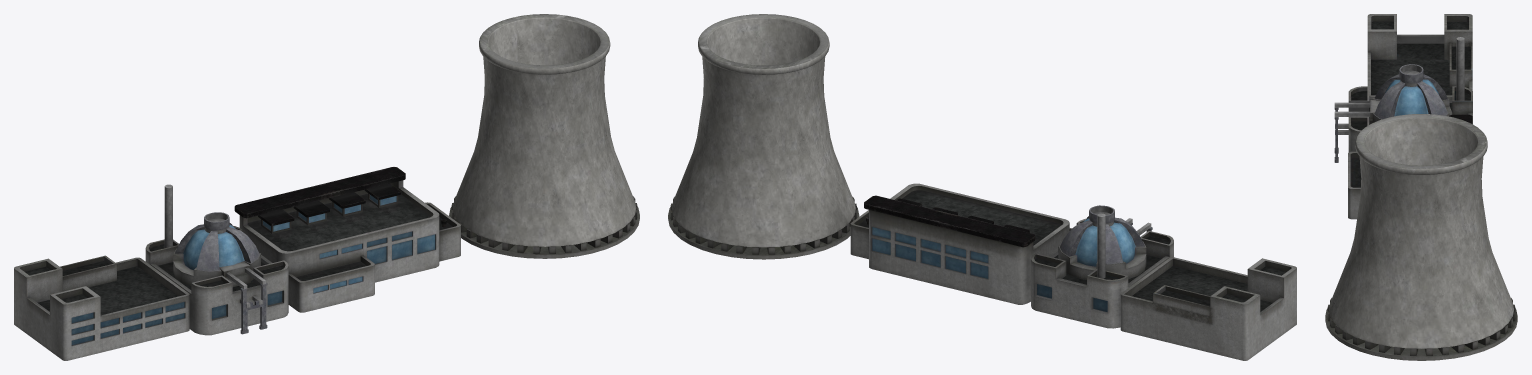
Rendered from obj_factory.glb.
The picture shows the model from 3 angles, left to right: view 1: azimuth 30°, elevation 25°; view 2: azimuth 150°, elevation 25°; view 3: azimuth 270°, elevation 25°; orthographic projection.
Visible parts, largest first — view 1: body|Truba_mtl, body|Zdanie_Cheh_mtl, body|Zdanie_office_mtl, body|Zdanie_Centr_mtl; view 2: body|Truba_mtl, body|Zdanie_Cheh_mtl, body|Zdanie_office_mtl, body|Zdanie_Centr_mtl; view 3: body|Truba_mtl, body|Zdanie_office_mtl, body|Zdanie_Centr_mtl, body|Zdanie_Cheh_mtl.
Boxes of the visible parts, x1,y1,x2,y2 form: body|Truba_mtl: [449, 14, 639, 258]; body|Zdanie_Cheh_mtl: [234, 167, 460, 312]; body|Zdanie_office_mtl: [14, 255, 189, 360]; body|Zdanie_Centr_mtl: [145, 184, 288, 335]; body|Truba_mtl: [668, 14, 859, 259]; body|Zdanie_Cheh_mtl: [850, 183, 1071, 304]; body|Zdanie_office_mtl: [1120, 257, 1296, 360]; body|Zdanie_Centr_mtl: [1031, 205, 1173, 328]; body|Truba_mtl: [1325, 114, 1517, 360]; body|Zdanie_office_mtl: [1367, 14, 1472, 97]; body|Zdanie_Centr_mtl: [1334, 37, 1472, 162]; body|Zdanie_Cheh_mtl: [1348, 114, 1472, 219].
Bounding box in the file's own units: 97.09 × 27.93 × 27.23.
4 materials, 4 textured.
